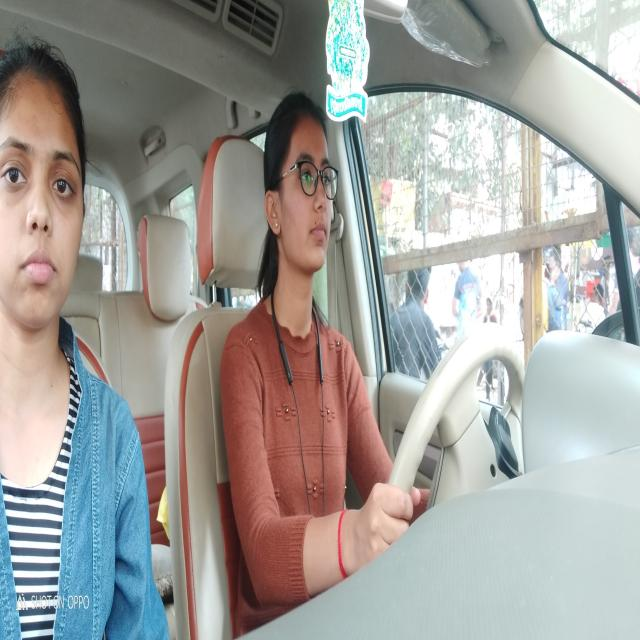person: (2, 43, 98, 343), (256, 88, 340, 280)
